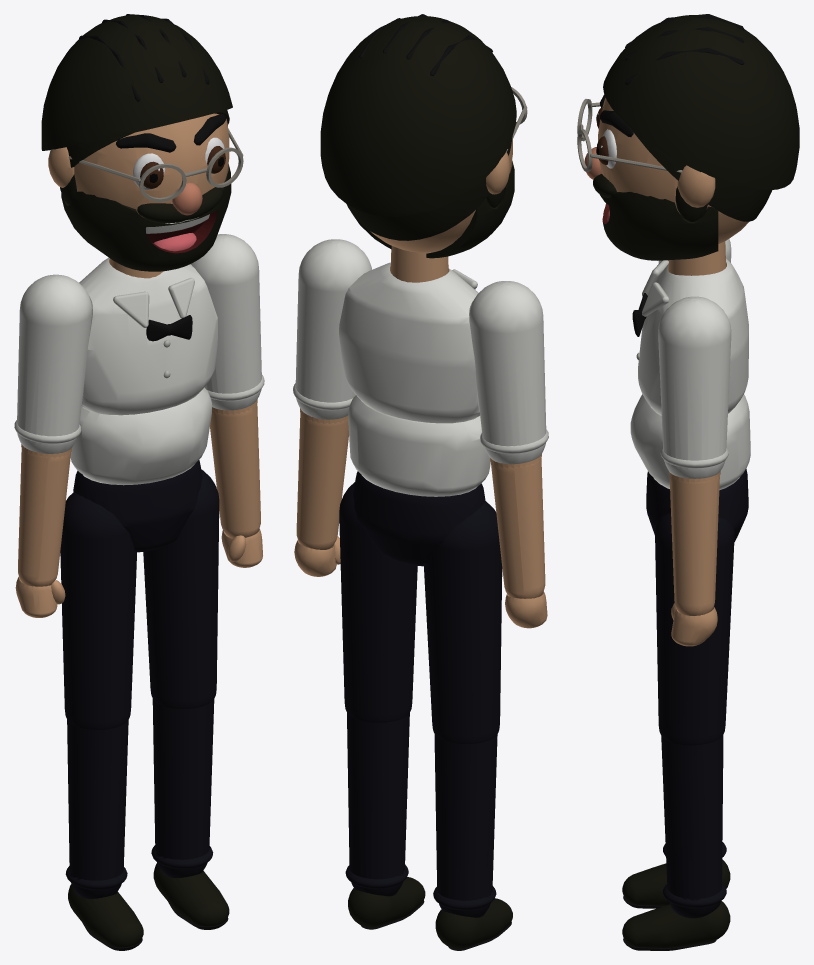
File: ewa_mohaned.glb
3 renders of one model, left to right at view 1: azimuth 30°, elevation 25°; view 2: azimuth 150°, elevation 25°; view 3: azimuth 270°, elevation 25°, orthographic. The views are drawn at different scales.
Parts seen in each view (by area): view 1: creature; view 2: creature; view 3: creature.
Part boxes in pixels (x1=…): creature: x1=14, y1=14, x2=264, y2=950; creature: x1=293, y1=14, x2=548, y2=950; creature: x1=577, y1=14, x2=799, y2=950.
Size of the model in its own units: 0.2821 by 1 by 0.2229.
